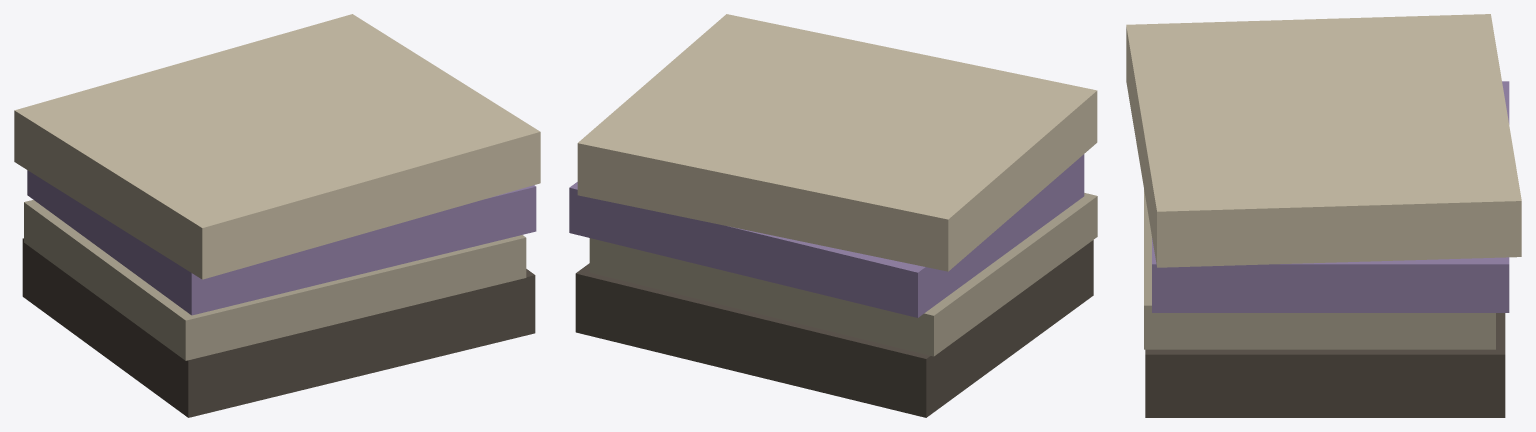
Rendered from folded-clothes-light.glb.
3 renders of one model, left to right at view 1: azimuth 30°, elevation 25°; view 2: azimuth 150°, elevation 25°; view 3: azimuth 270°, elevation 25°, orthographic. The views are drawn at different scales.
Parts seen in each view (by area): view 1: paper, fabric, plastic-light, accent-lilac; view 2: paper, fabric, accent-lilac, plastic-light; view 3: paper, fabric, accent-lilac, plastic-light.
Part boxes in pixels (x1,y1,x2,y2): paper: (14,14,540,279); fabric: (22,238,535,417); plastic-light: (24,200,526,360); accent-lilac: (27,170,536,315); paper: (577,14,1097,271); fabric: (575,240,1093,417); accent-lilac: (569,154,1084,317); plastic-light: (589,193,1097,356); paper: (1126,14,1521,267); fabric: (1145,313,1505,417); accent-lilac: (1152,81,1509,312); plastic-light: (1144,190,1495,349).
Size of the model in its own units: 0.3482 by 0.174 by 0.2944.
